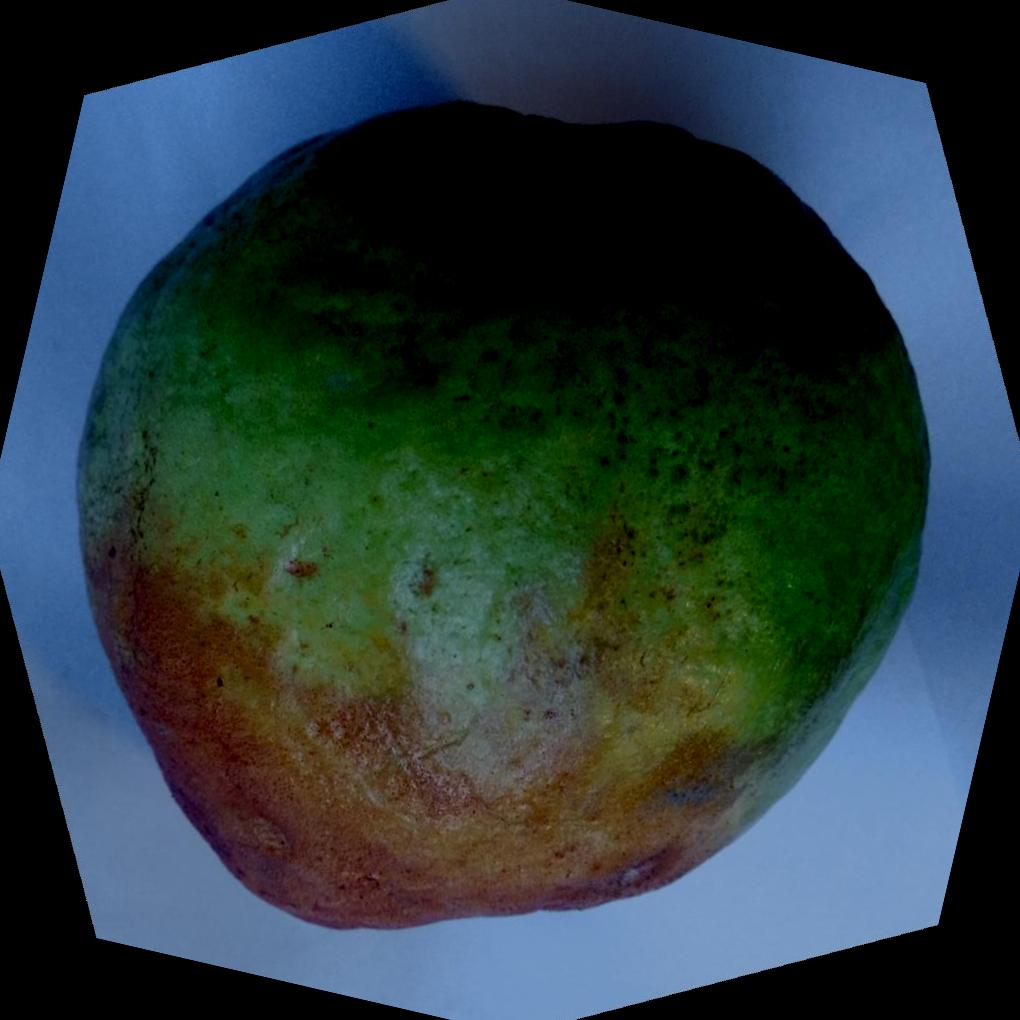FreshOrange: (70, 98, 929, 930)
